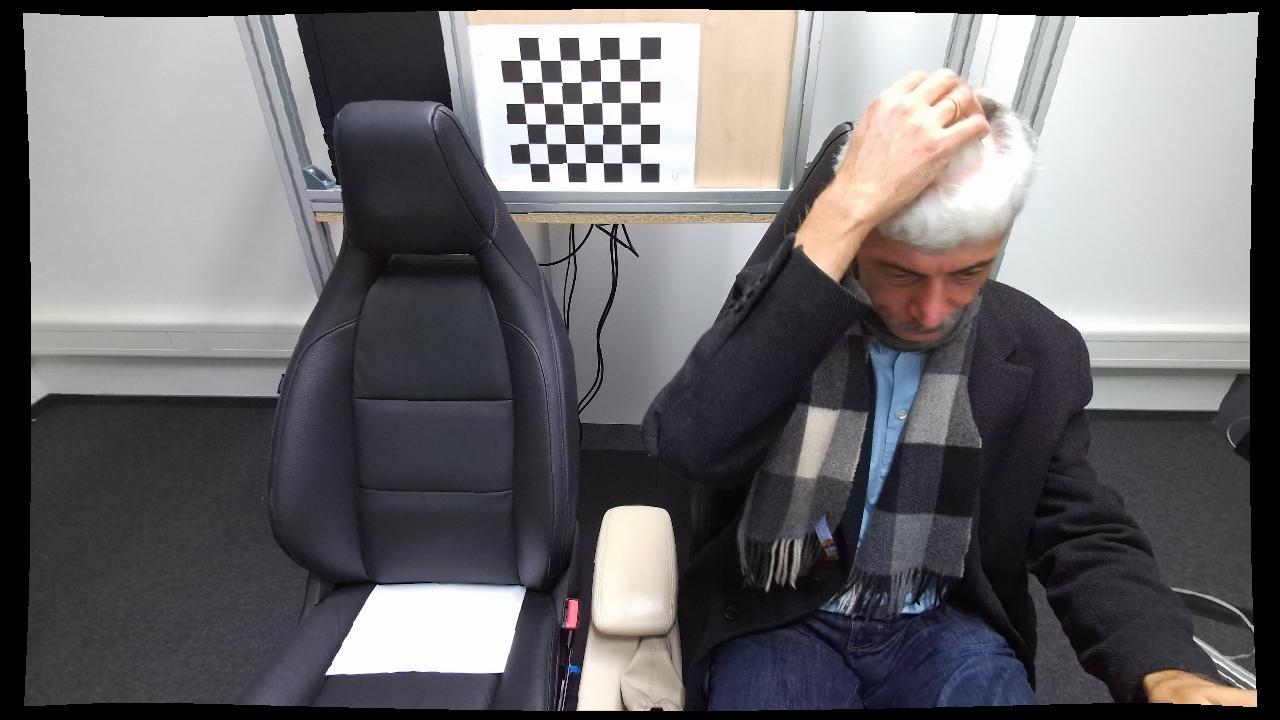Distracted: (643, 57, 1144, 706)
